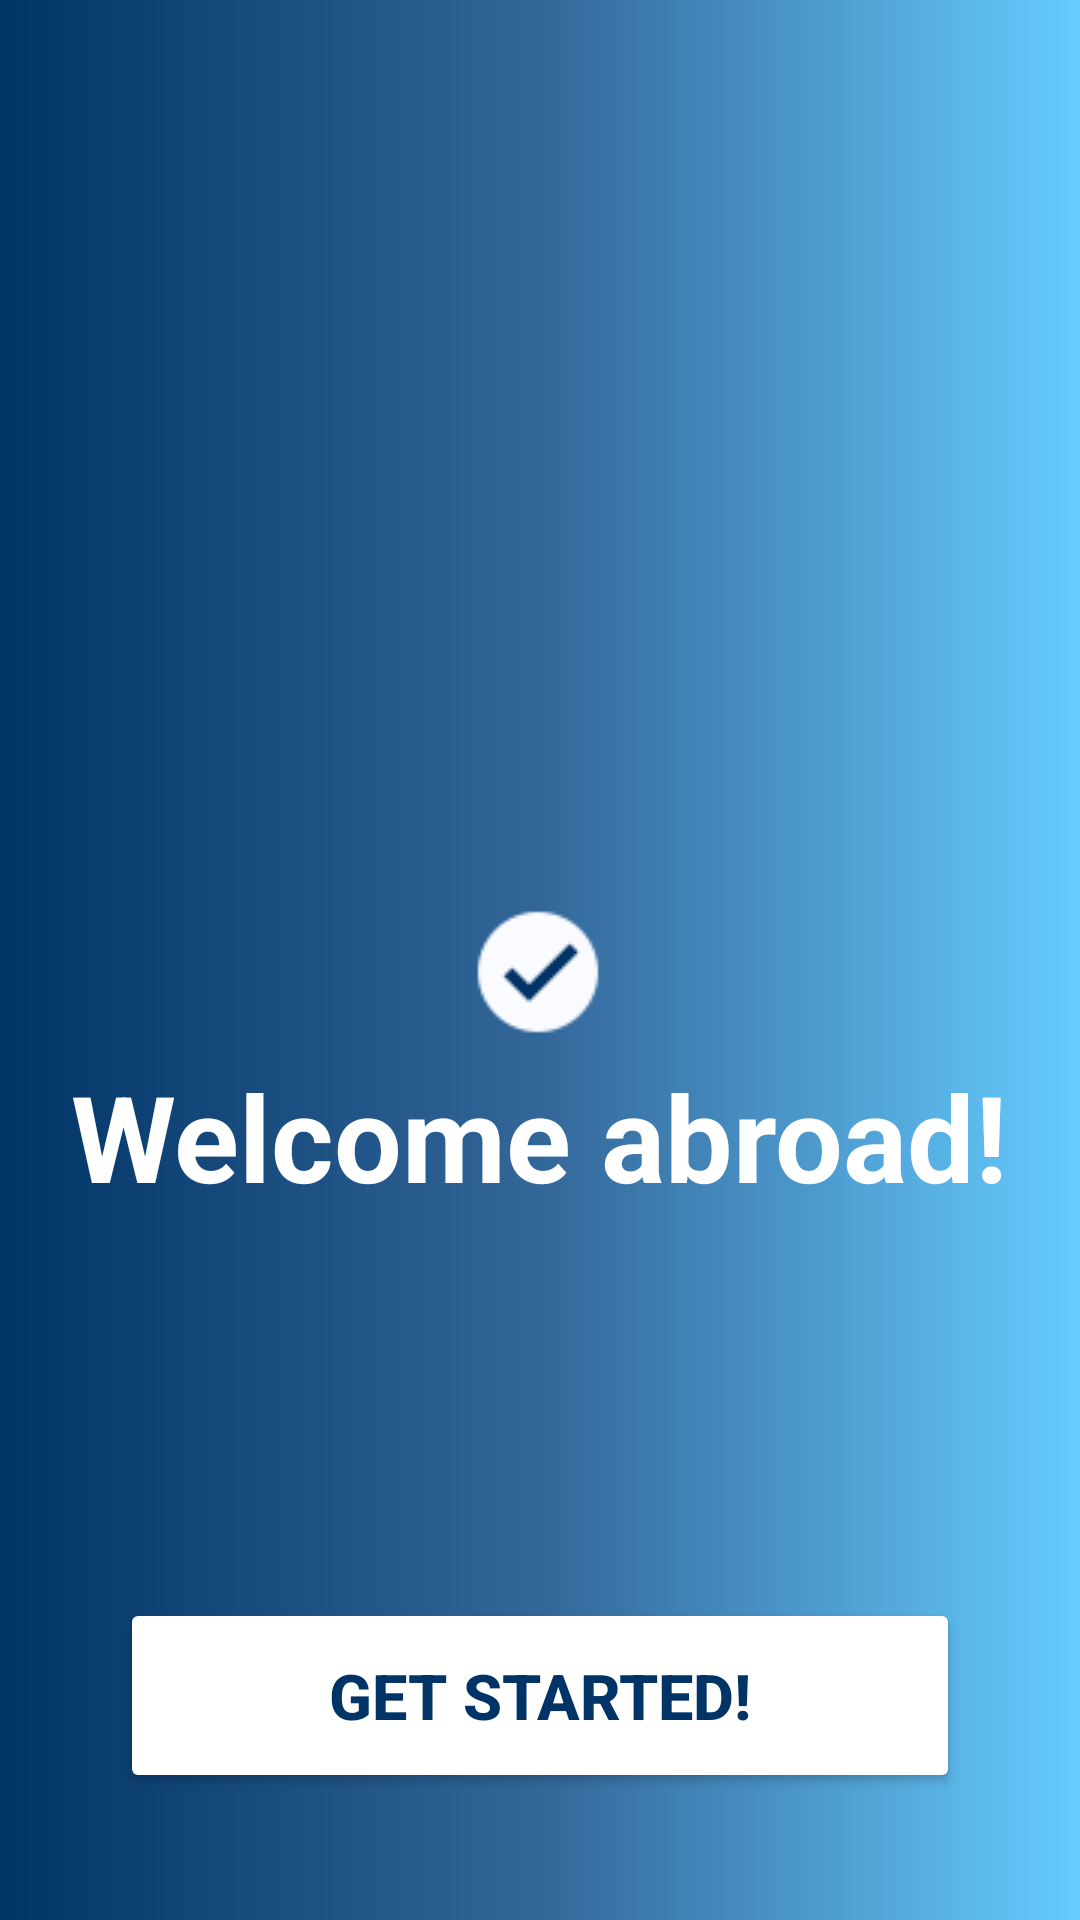

Named icons in this screenshot (1080×1920) and their bounding boxes, (x1, y1, x2, y2):
correct: (477, 911, 599, 1033)
